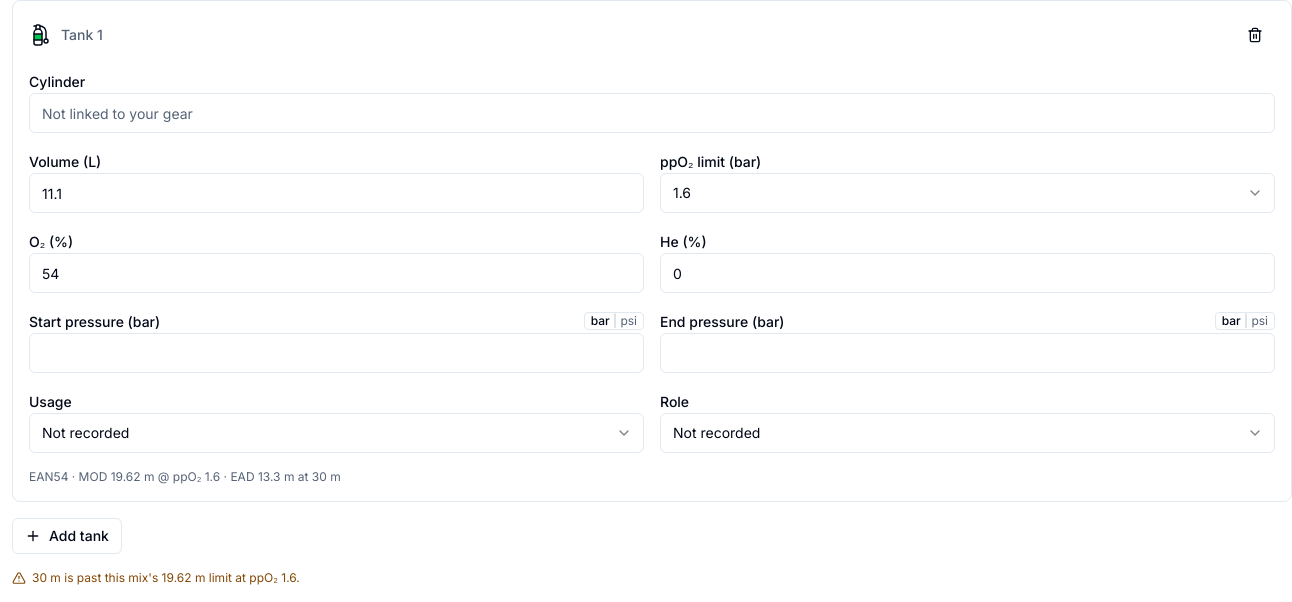
Test: MixtureFields role input › lets a recorded ppO₂ limit be cleared back to the default
Select "Not recorded (1.4 default)" in the dropdown labelled "ppO₂ limit (bar)" at (968, 193), box [660,173,1275,213]
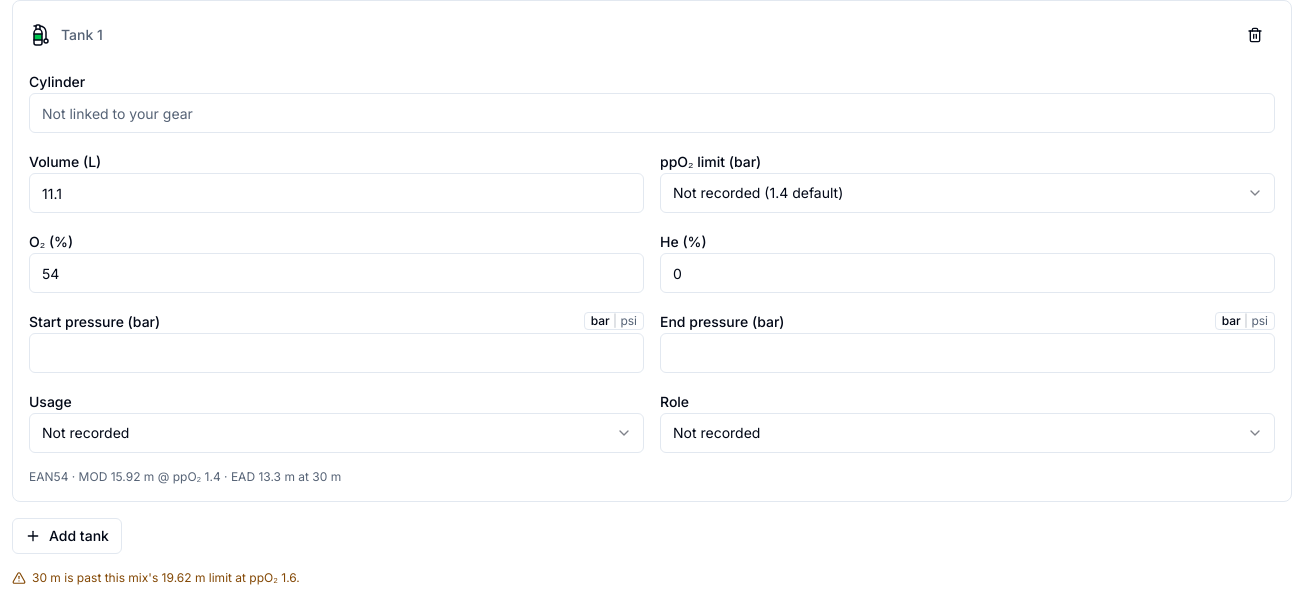
Check: the text "EAN54 · MOD 15.92 m @ ppO₂ 1.4 · EAD 13.3 m at 30 m" is shown, box [29,469,341,484]
